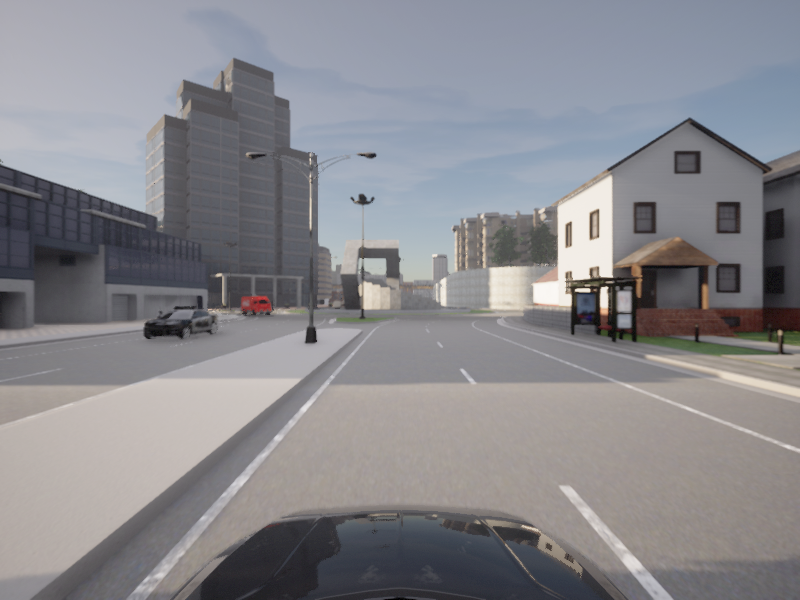vehicle: (133, 305, 222, 342)
